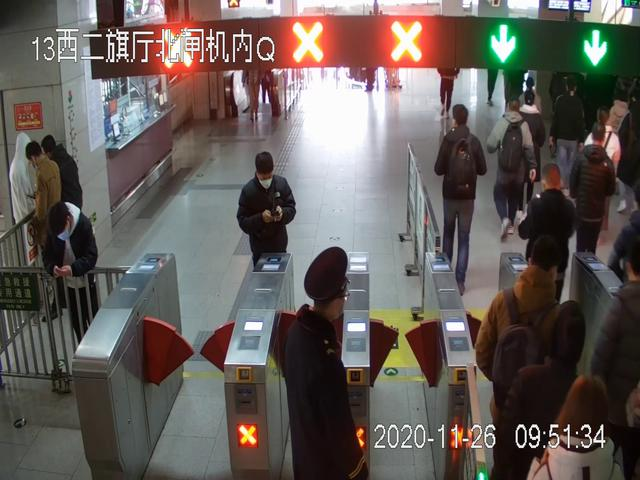person: (477, 240, 574, 480), (282, 247, 367, 480), (520, 162, 579, 337), (434, 104, 487, 295), (238, 151, 296, 306), (46, 202, 100, 365), (568, 124, 616, 285), (485, 97, 537, 239), (26, 140, 64, 322), (7, 130, 43, 297), (549, 77, 583, 190)
